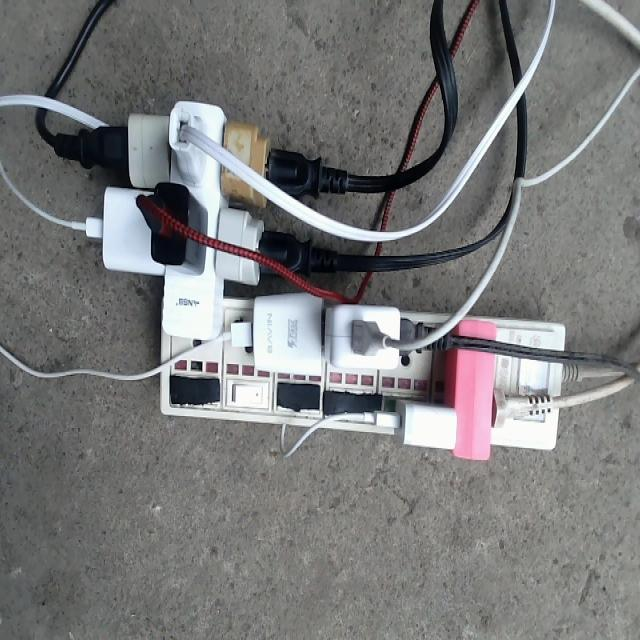-: (77, 98, 574, 454)
